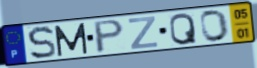M: (53, 21, 90, 58)
O: (199, 9, 231, 44)
P: (94, 18, 126, 55)
Q: (169, 12, 199, 47)
S: (26, 25, 58, 61)
Z: (127, 15, 159, 51)
